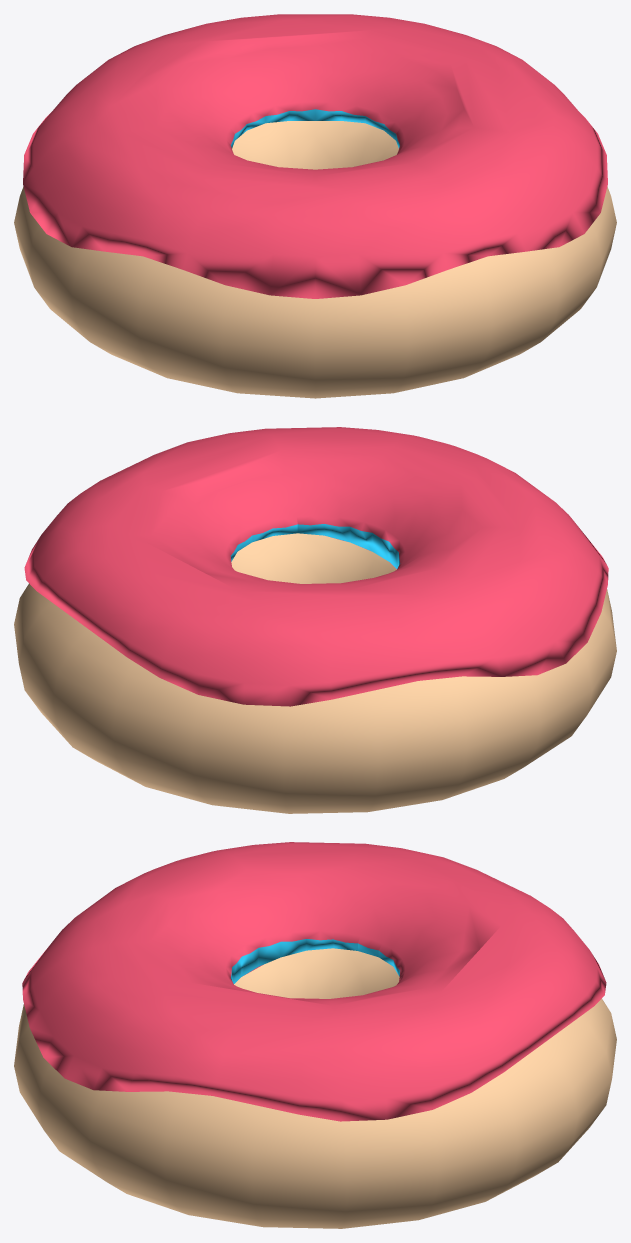
File: Toy230.fbx
3 views of the same model, one above another, from view 1: azimuth 30°, elevation 25°; view 2: azimuth 150°, elevation 25°; view 3: azimuth 270°, elevation 25° (orthographic).
Visible parts, largest first — view 1: Toy230; view 2: Toy230; view 3: Toy230.
Boxes of the visible parts, bbox=[...] form: Toy230: bbox=[14, 14, 616, 398]; Toy230: bbox=[14, 427, 616, 813]; Toy230: bbox=[14, 842, 616, 1228].
Bounding box in the file's own units: 0.1655 × 0.0619 × 0.1655.
